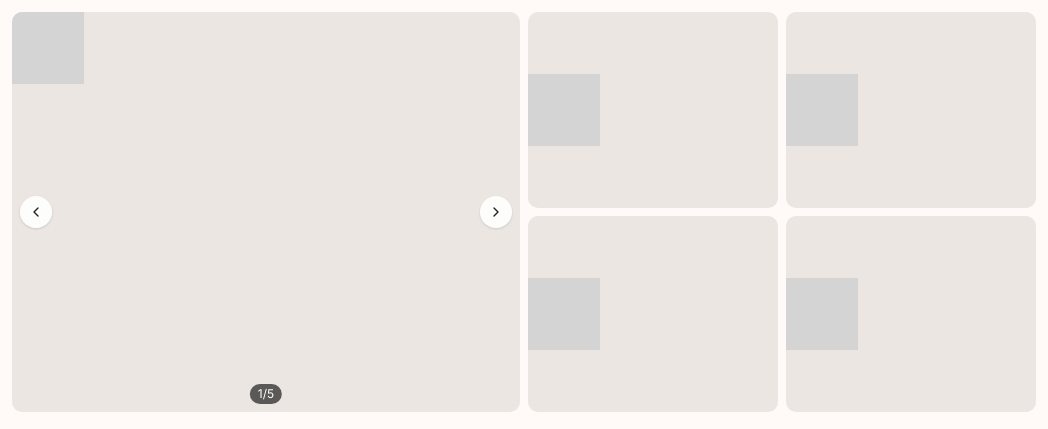
Test: Carousel › avec plusieurs images › revient à la dernière image depuis la première
The image size is (1048, 429).
Click the button named "Photo précédente" at (36, 212), box [20,196,52,228]
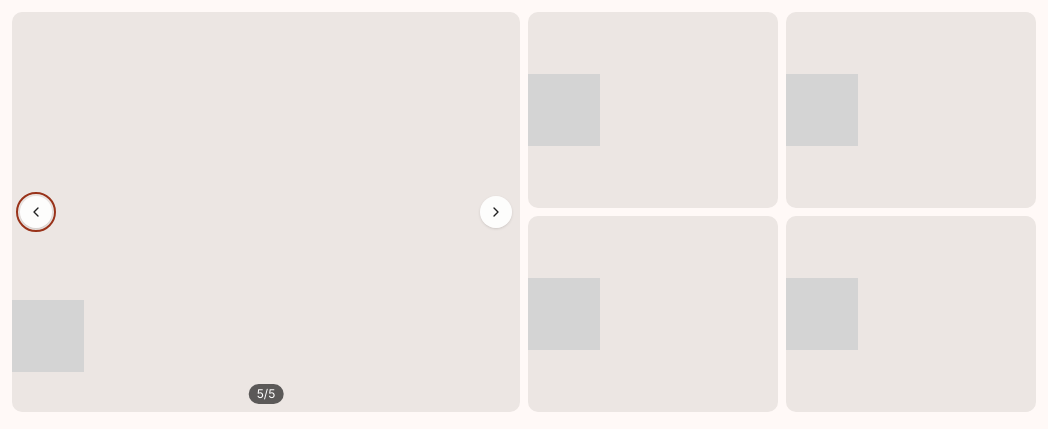
Now the text "5/5" is shown, box [249,384,283,404]
